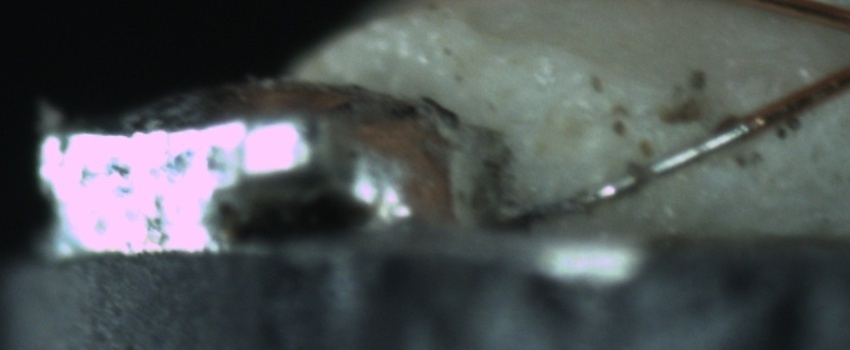TS: (505, 113, 753, 222)
